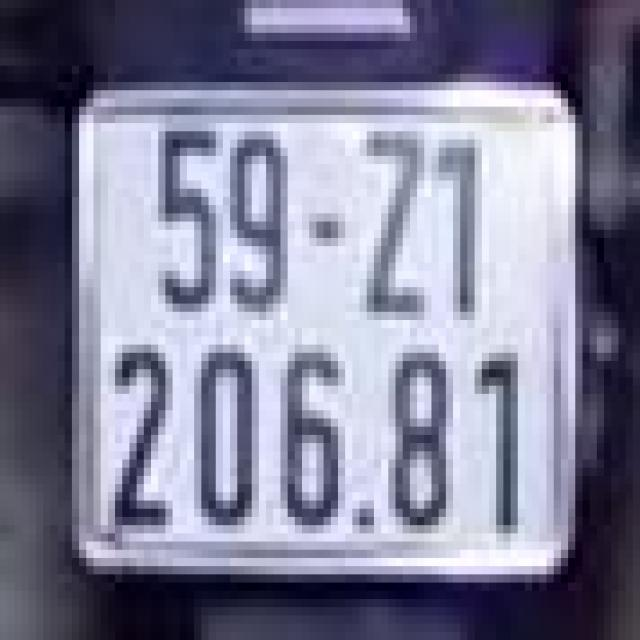0: (183, 340, 270, 546)
1: (435, 123, 500, 336), (475, 340, 532, 546)
2: (100, 336, 180, 534)
5: (148, 119, 226, 316)
6: (277, 341, 356, 529)
8: (381, 332, 460, 538)
9: (227, 127, 306, 316)
Z: (359, 123, 432, 320)
